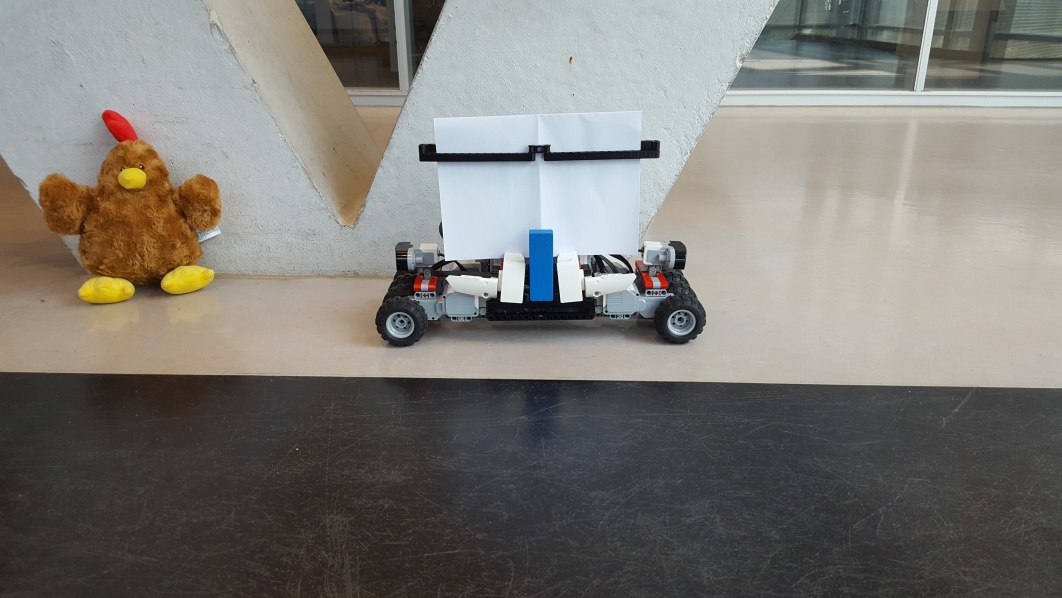beam: (524, 228, 555, 307)
chicken: (40, 106, 220, 303)
